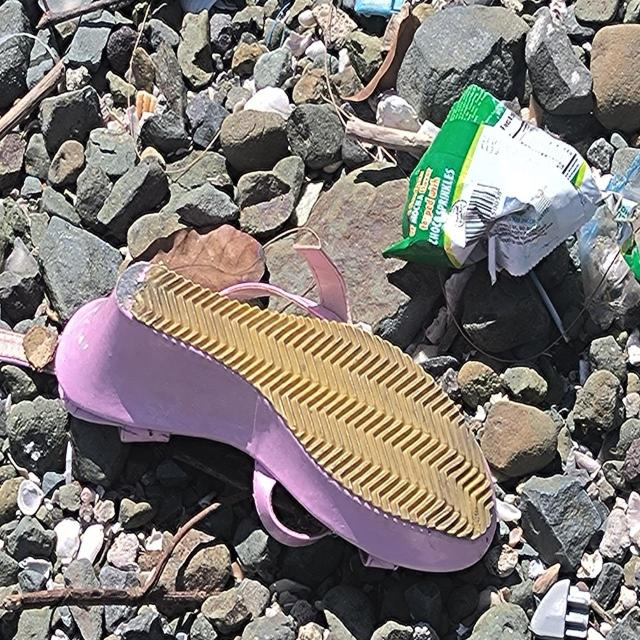plastic_waste: (381, 83, 640, 279)
rubber_waste: (54, 259, 501, 576)
